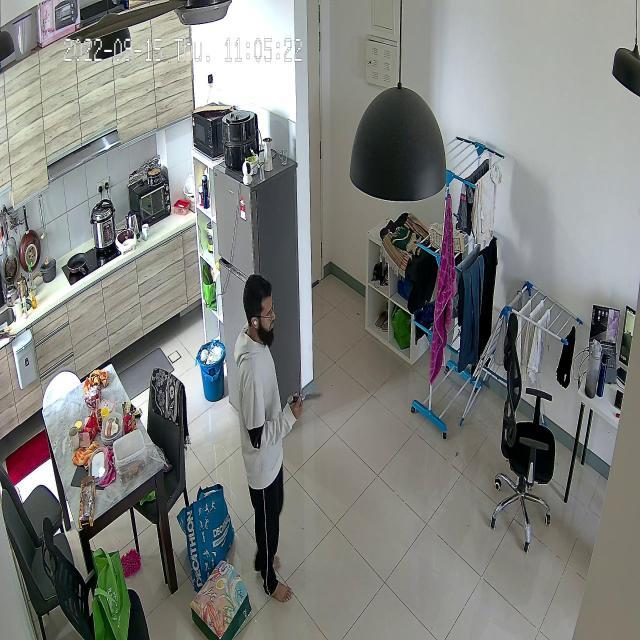Knife: (286, 382, 329, 408)
